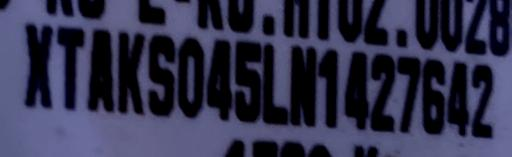letter: (22, 22, 54, 109), (114, 30, 146, 117), (56, 25, 86, 114), (86, 28, 116, 115), (288, 41, 318, 128), (146, 33, 176, 118), (204, 36, 234, 121), (234, 38, 262, 125), (176, 35, 204, 120), (261, 42, 289, 127), (467, 59, 495, 142), (444, 59, 472, 138), (368, 53, 396, 132), (420, 57, 448, 136), (344, 47, 370, 130), (395, 54, 421, 135), (317, 45, 341, 128)
